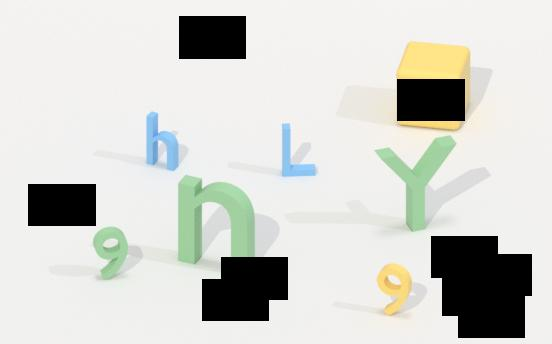9: (89, 222, 132, 283), (375, 259, 415, 321)
Y-hoa: (373, 130, 458, 235)
h: (144, 107, 179, 174)
hop: (392, 36, 476, 132)
l: (277, 119, 320, 182)
n: (174, 169, 260, 281)
